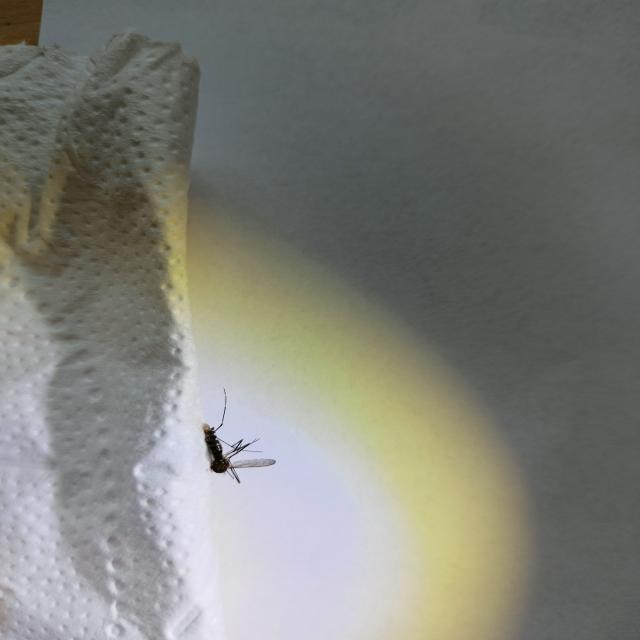albopictus: (186, 386, 279, 484)
